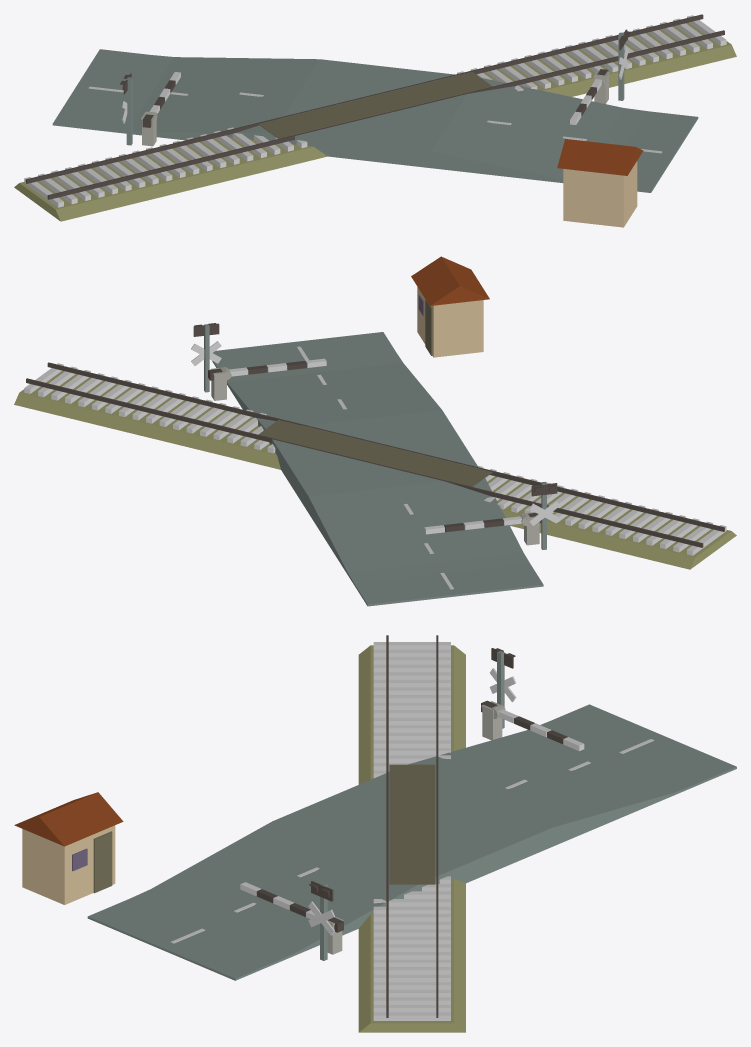
The model's file is SM_PasoNivel_45_v0_Teja_LOD0.fbx.
3 views of the same model, one above another, from view 1: azimuth 30°, elevation 25°; view 2: azimuth 150°, elevation 25°; view 3: azimuth 270°, elevation 25° (orthographic). The views are drawn at different scales.
Parts seen in each view (by area): view 1: SM_paso_nivel_kit_v10_LOD0, Barrera_1, Barrera_2; view 2: SM_paso_nivel_kit_v10_LOD0, Barrera_1, Barrera_2; view 3: SM_paso_nivel_kit_v10_LOD0, Barrera_2, Barrera_1.
Part boxes in pixels (x1,y1,x2,y2): SM_paso_nivel_kit_v10_LOD0: [14, 14, 736, 227]; Barrera_1: [570, 69, 608, 124]; Barrera_2: [142, 72, 180, 127]; SM_paso_nivel_kit_v10_LOD0: [14, 256, 736, 606]; Barrera_1: [208, 358, 326, 380]; Barrera_2: [424, 512, 541, 534]; SM_paso_nivel_kit_v10_LOD0: [14, 635, 736, 1032]; Barrera_2: [481, 700, 584, 751]; Barrera_1: [240, 882, 343, 932].
Bounding box in the file's own units: 30 × 3 × 24.25.
